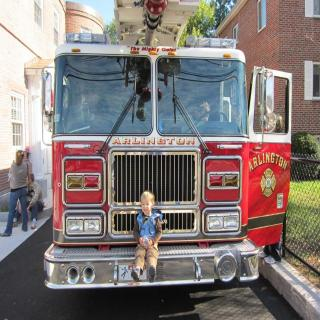Fire_truck: (41, 2, 293, 292)
